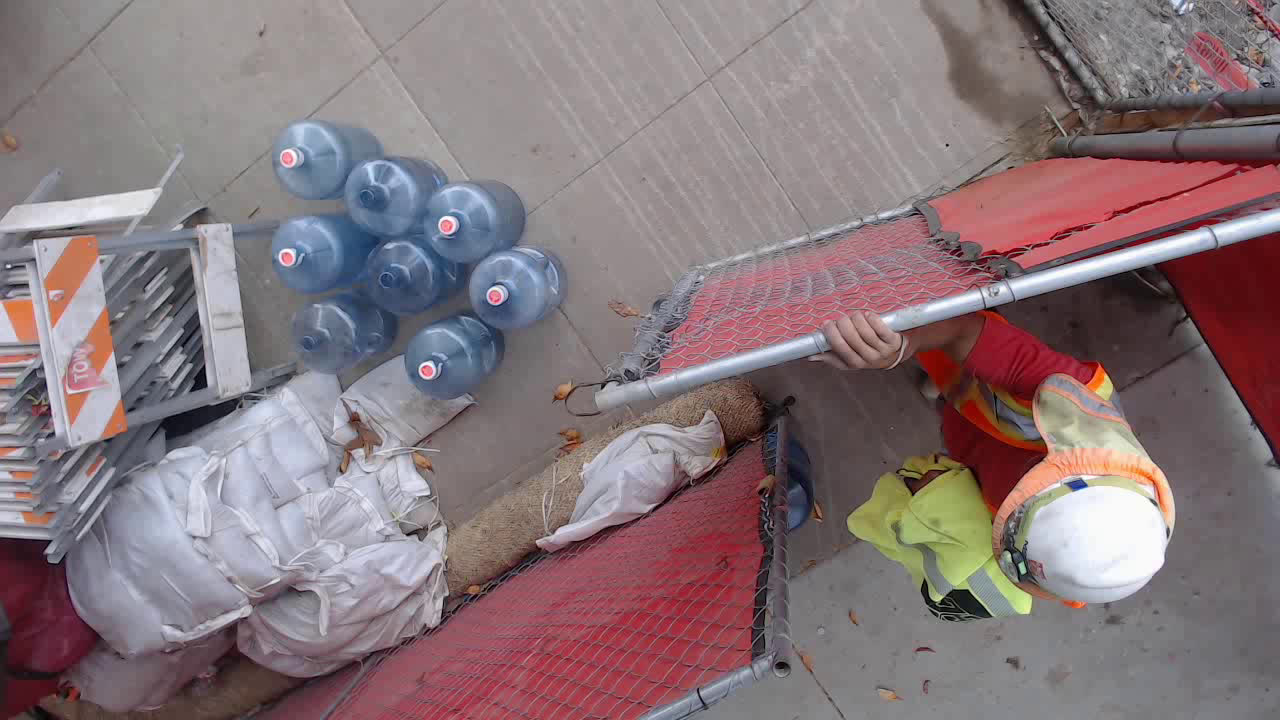hardhat: (989, 452, 1178, 608)
safetyvest: (885, 315, 1151, 464)
